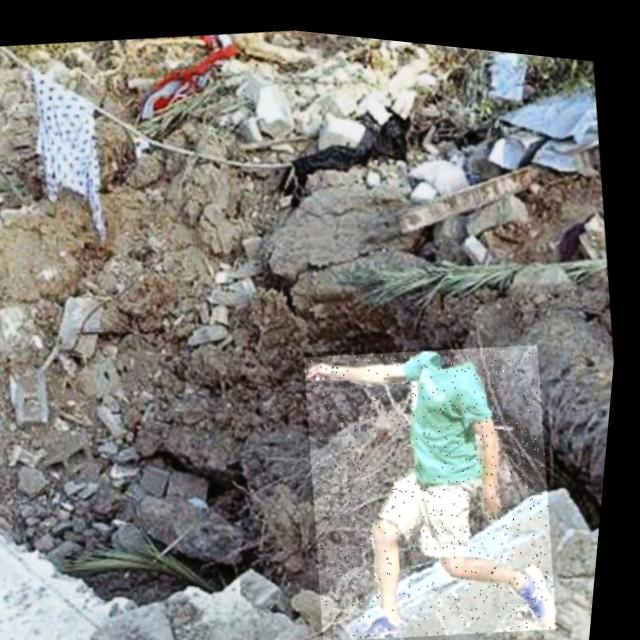Person in Rubble: (291, 314, 587, 640)
